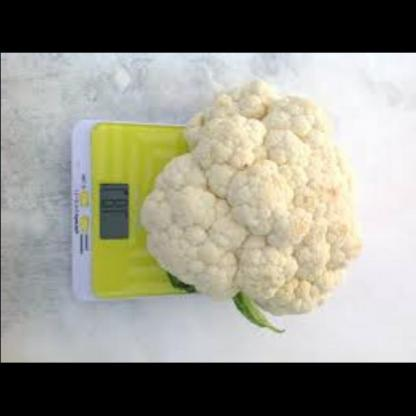cayliflower: (137, 56, 361, 338)
